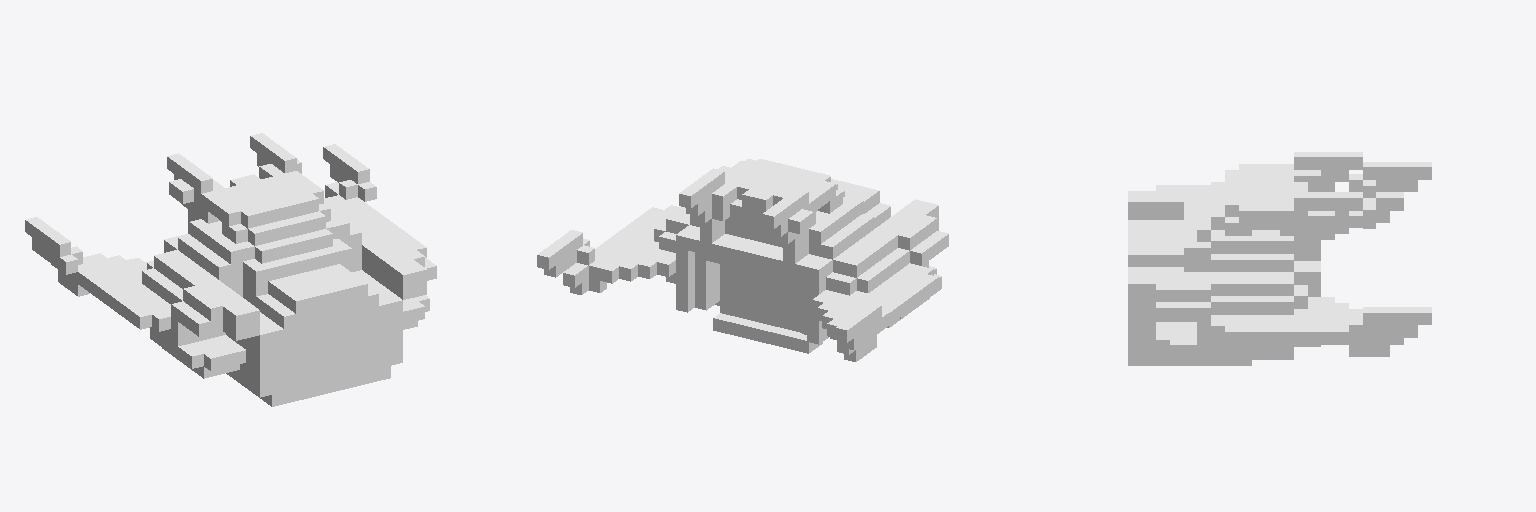
File: Extra-13-RedFighter_Engine.obj
3 views of the same model, side by side, from view 1: azimuth 30°, elevation 25°; view 2: azimuth 150°, elevation 25°; view 3: azimuth 270°, elevation 25° (orthographic).
Parts seen in each view (by area): view 1: RedFighter_Engine; view 2: RedFighter_Engine; view 3: RedFighter_Engine.
Part boxes in pixels (x1,y1,x2,y2): RedFighter_Engine: (25,133,436,406); RedFighter_Engine: (537,159,948,361); RedFighter_Engine: (1128,152,1431,365).
Bounding box in the file's own units: 2.6 × 1.3 × 2.2.